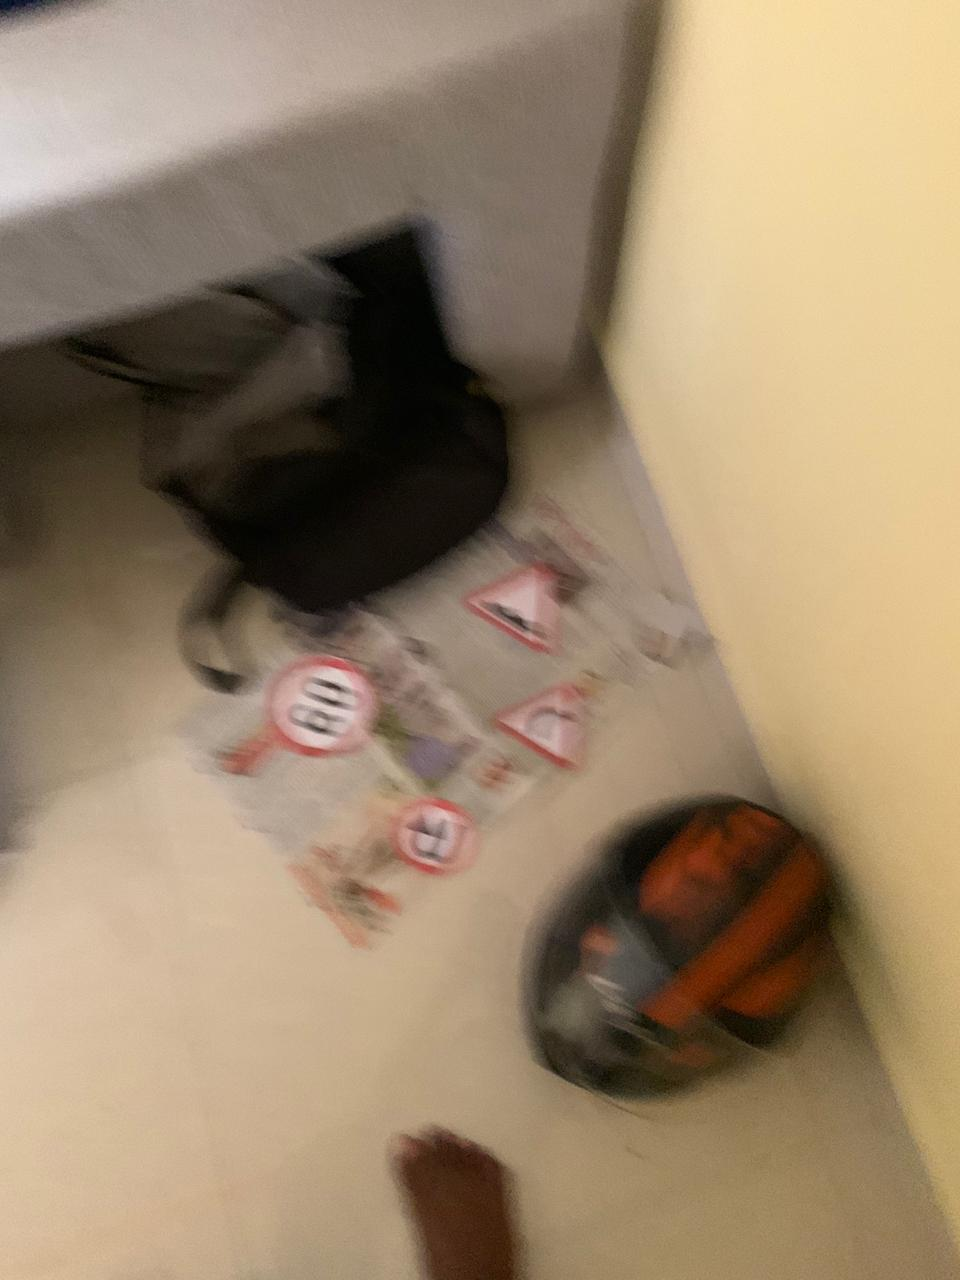LEFT CURVE: (509, 660, 586, 769)
SPEED LIMIT (60 KM/H): (265, 654, 382, 760)
U-TURN: (384, 787, 475, 877)
UNEVEN ROAD: (468, 538, 559, 644)
